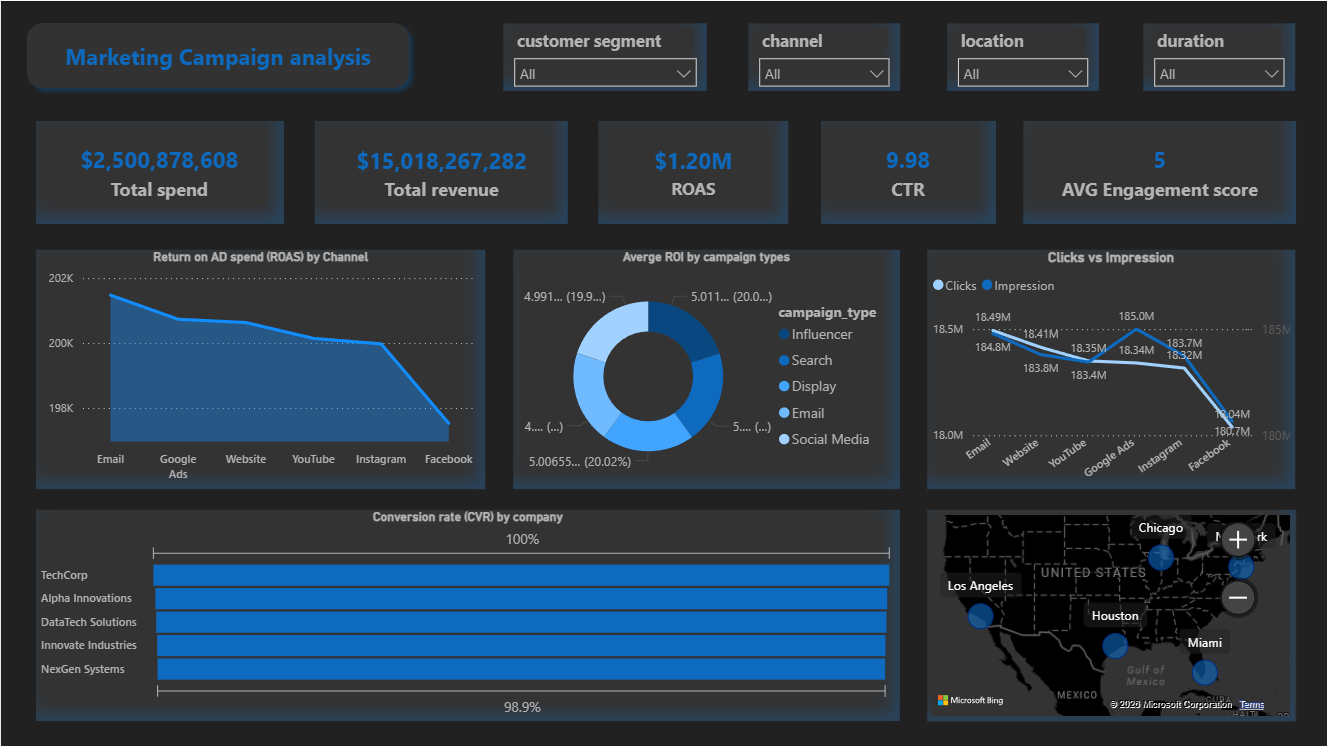

What the dashboard file says about the page in this screenshot:
{"tool":"powerbi","page":{"name":"Page 1","canvas":[1280,720],"ordinal":0},"visuals":[{"type":"shape","box":[16.2,12.5,387.5,81.2],"z":0},{"type":"cardVisual","fields":{"Data":["projects marketing_campaign.total spend"]},"box":[33.7,115.2,238.9,98.9],"z":1000},{"type":"cardVisual","fields":{"Data":["Sum(projects marketing_campaign.revenue)"]},"box":[302.8,115.2,243.7,98.9],"z":2000},{"type":"cardVisual","fields":{"Data":["Sum(projects marketing_campaign.Return_on Ad_spend(ROAS))"]},"box":[576.6,115.2,183.4,98.9],"z":3000},{"type":"cardVisual","fields":{"Data":["projects marketing_campaign.NCTR"]},"box":[791.4,115.2,168.9,98.9],"z":4000},{"type":"areaChart","title":"Return on AD spend (ROAS)  by Channel","fields":{"Category":["projects marketing_campaign.channel_used"],"Y":["Sum(projects marketing_campaign.return_on_ad_spend(roas))"]},"box":[33.8,239.8,433.8,231.2],"z":5000},{"type":"map","title":"Campa","fields":{"Category":["projects marketing_campaign.location"]},"box":[893.8,491.2,355,203.8],"z":6000},{"type":"cardVisual","fields":{"Data":["Avg(projects marketing_campaign.engagement_score)"]},"box":[986.8,115.2,263,98.9],"z":7000},{"type":"donutChart","title":"Averge ROI by campaign types","fields":{"Y":["Avg(projects marketing_campaign.roi)"],"Category":["projects marketing_campaign.campaign_type"]},"box":[495,240,372.5,231.2],"z":8000},{"type":"funnel","title":"Conversion rate (CVR) by company","fields":{"Category":["projects marketing_campaign.company"],"Y":["Sum(projects marketing_campaign.conversion_rate)"]},"box":[33.8,491.2,833.8,203.8],"z":9000},{"type":"lineChart","title":"Clicks vs Impression","fields":{"Category":["projects marketing_campaign.channel_used"],"Y":["Sum(projects marketing_campaign.clicks)"],"Y2":["Sum(projects marketing_campaign.impressions)"]},"box":[893.8,240,355,231.2],"z":10000},{"type":"slicer","fields":{"Values":["projects marketing_campaign.duration"]},"box":[1102.5,21.2,146.2,65],"z":11000},{"type":"slicer","fields":{"Values":["projects marketing_campaign.location"]},"box":[913.8,21.2,146.2,65],"z":12000},{"type":"slicer","fields":{"Values":["projects marketing_campaign.channel_used"]},"box":[721.2,21.2,146.2,65],"z":13000},{"type":"slicer","fields":{"Values":["projects marketing_campaign.customer_segment"]},"box":[485,21.2,196.2,65],"z":14000}]}

Visuals, with their boxes in screenshot pixels (x1, y1, x2, y2), scaled from the page's 1280x720 canvas onto the 1327x746 screenshot:
shape: box(17, 13, 419, 97)
cardVisual - projects marketing_campaign.total spend: box(35, 119, 283, 222)
cardVisual - Sum(projects marketing_campaign.revenue): box(314, 119, 567, 222)
cardVisual - Sum(projects marketing_campaign.Return_on Ad_spend(ROAS)): box(598, 119, 788, 222)
cardVisual - projects marketing_campaign.NCTR: box(820, 119, 996, 222)
"Return on AD spend (ROAS)  by Channel" areaChart: box(35, 248, 485, 488)
"Campa" map: box(927, 509, 1295, 720)
cardVisual - Avg(projects marketing_campaign.engagement_score): box(1023, 119, 1296, 222)
"Averge ROI by campaign types" donutChart: box(513, 249, 899, 488)
"Conversion rate (CVR) by company" funnel: box(35, 509, 899, 720)
"Clicks vs Impression" lineChart: box(927, 249, 1295, 488)
slicer - projects marketing_campaign.duration: box(1143, 22, 1295, 89)
slicer - projects marketing_campaign.location: box(947, 22, 1099, 89)
slicer - projects marketing_campaign.channel_used: box(748, 22, 899, 89)
slicer - projects marketing_campaign.customer_segment: box(503, 22, 706, 89)
